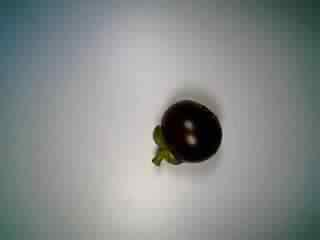mangosteen: (143, 95, 224, 180)
